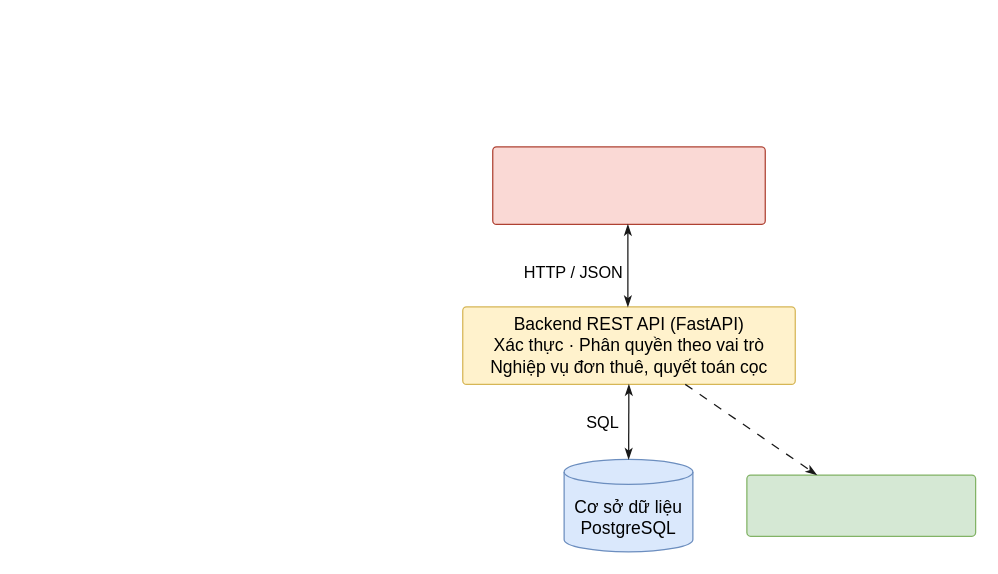
The diagram is 998 pixels wide and 574 high, and some of its shapes have lost their labels. The shapes that lost their labels are listed below. From the top down, each one's centre as x and y in pixels, then its label:
pixel 628 185: Trình duyệt Khách hàng / Quản trị viên HTML · CSS · JavaScript
pixel 861 505: Mã QR VietQR (mô phỏng thanh toán)
